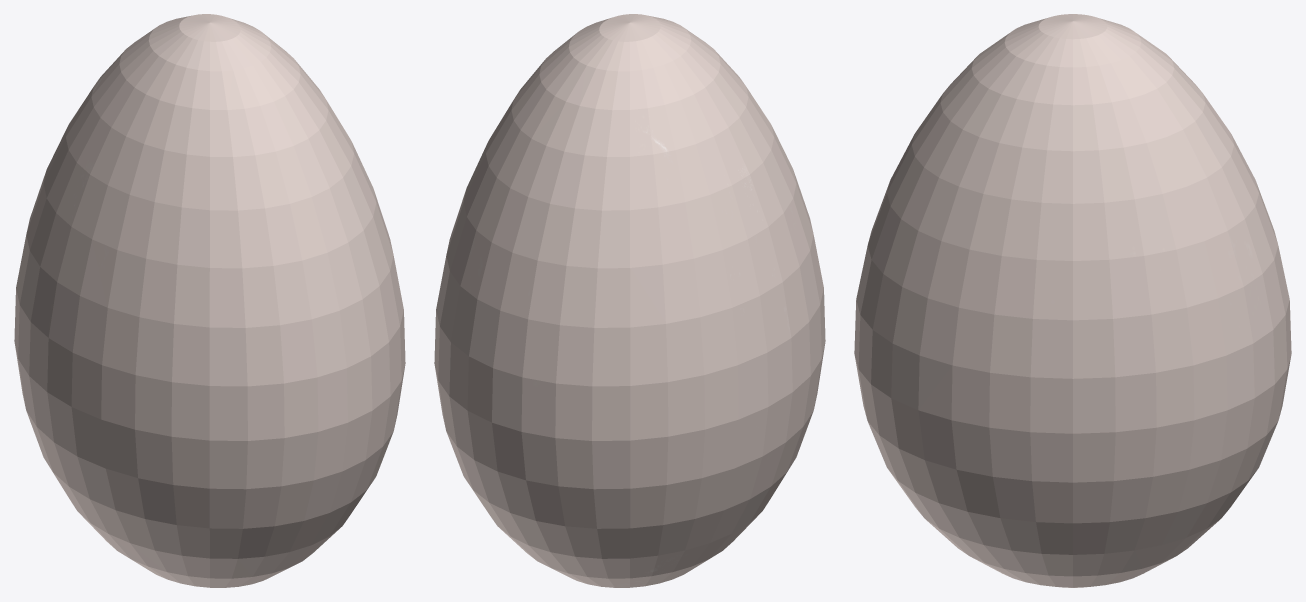
Rendered from normalNBullet.obj.
3 renders of one model, left to right at view 1: azimuth 30°, elevation 25°; view 2: azimuth 150°, elevation 25°; view 3: azimuth 270°, elevation 25°, orthographic.
Parts seen in each view (by area): view 1: 球; view 2: 球; view 3: 球.
Boxes of the visible parts, box(x1,y1,x2,y2) form: 球: box(14, 14, 405, 587); 球: box(434, 14, 825, 587); 球: box(854, 14, 1291, 587).
Bounding box in the file's own units: 0.2379 × 0.3856 × 0.2746.
1 material, 1 textured.
